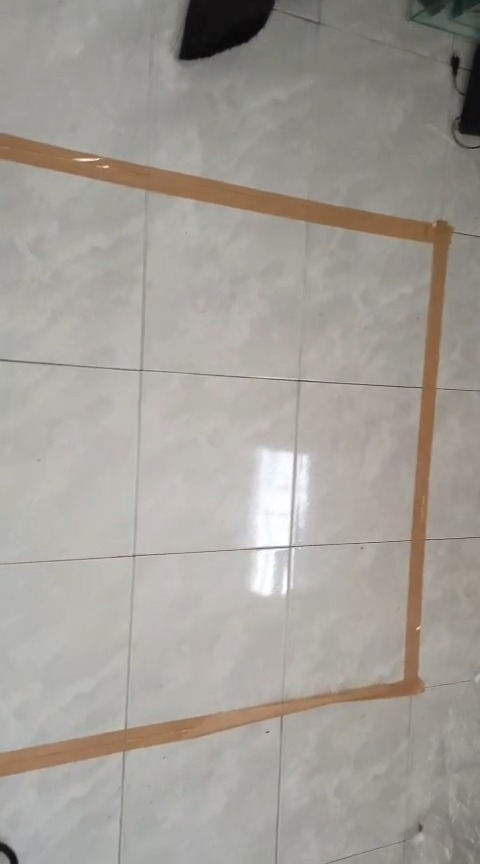floor marking: (1, 133, 451, 775)
